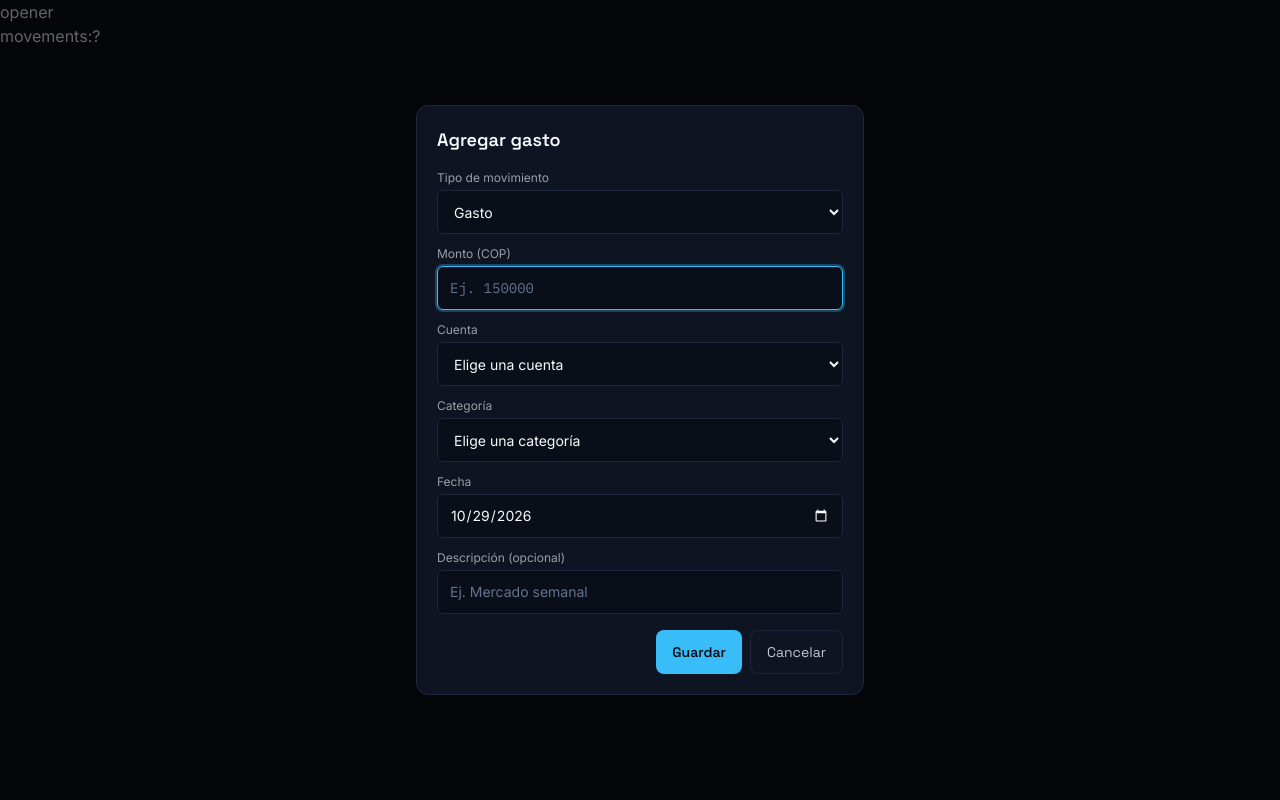
MovementModal › surfaces the server Spanish message when the API rejects with 422
The width and height of the screenshot is (1280, 800).
In the field labelled "Monto (COP)": (640, 288) x1=437 y1=266 x2=843 y2=310, type "25000"
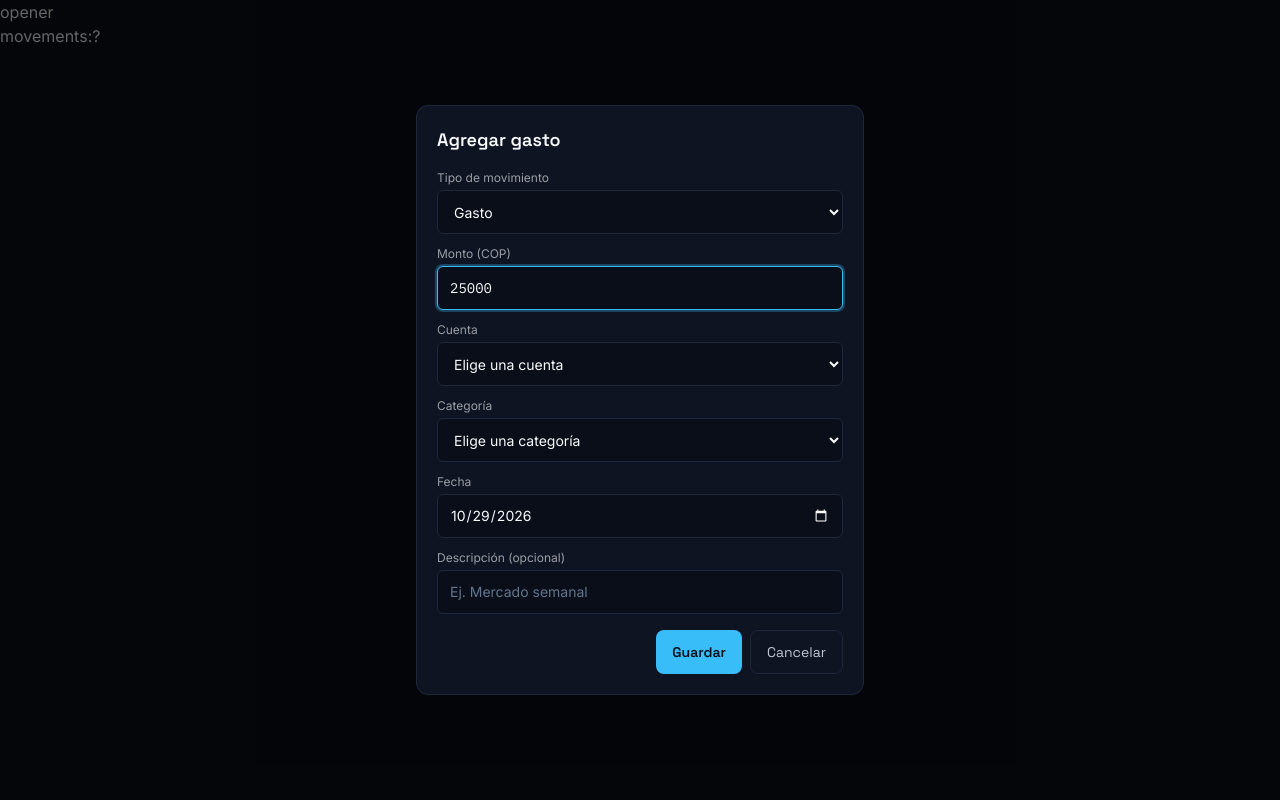
Select "Cuenta principal" in the dropdown labelled "Cuenta": (640, 364) x1=437 y1=342 x2=843 y2=386
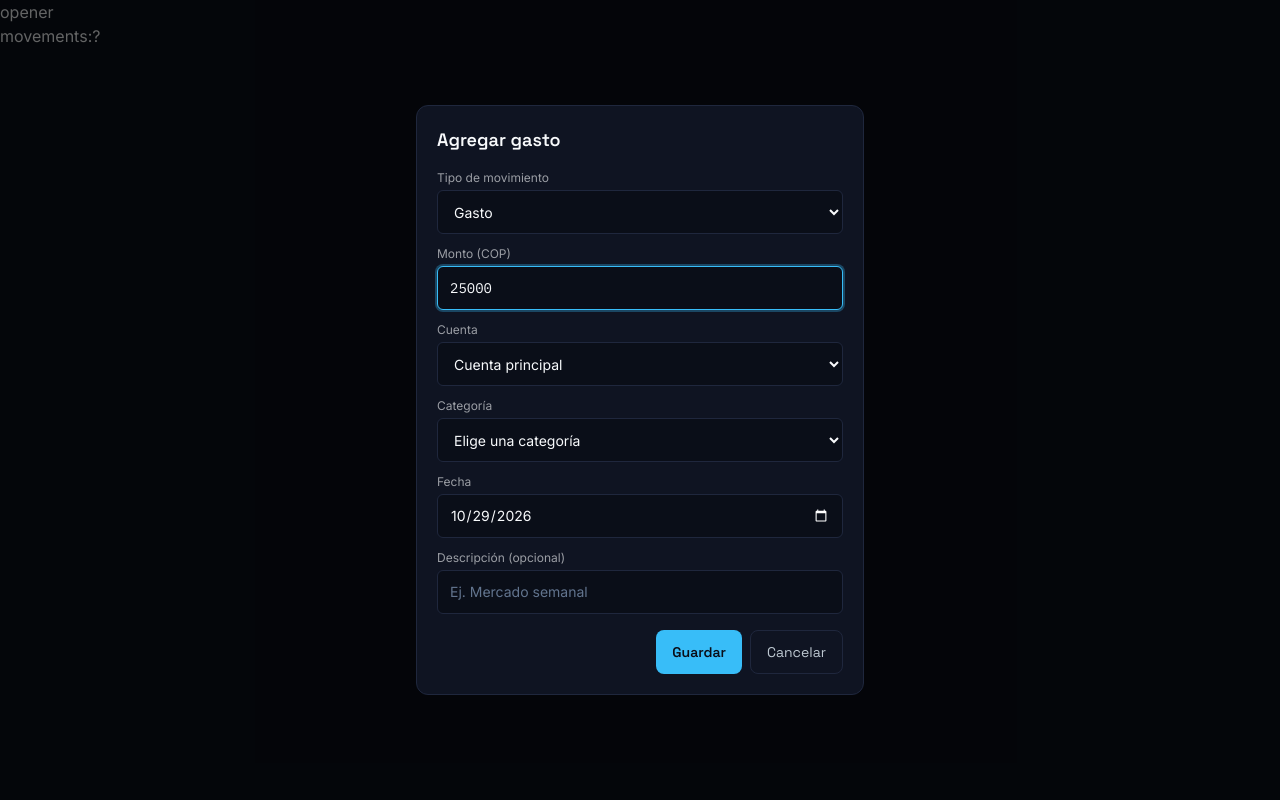
Select "Mercado" in the dropdown labelled "Categoría": (640, 440) x1=437 y1=418 x2=843 y2=462
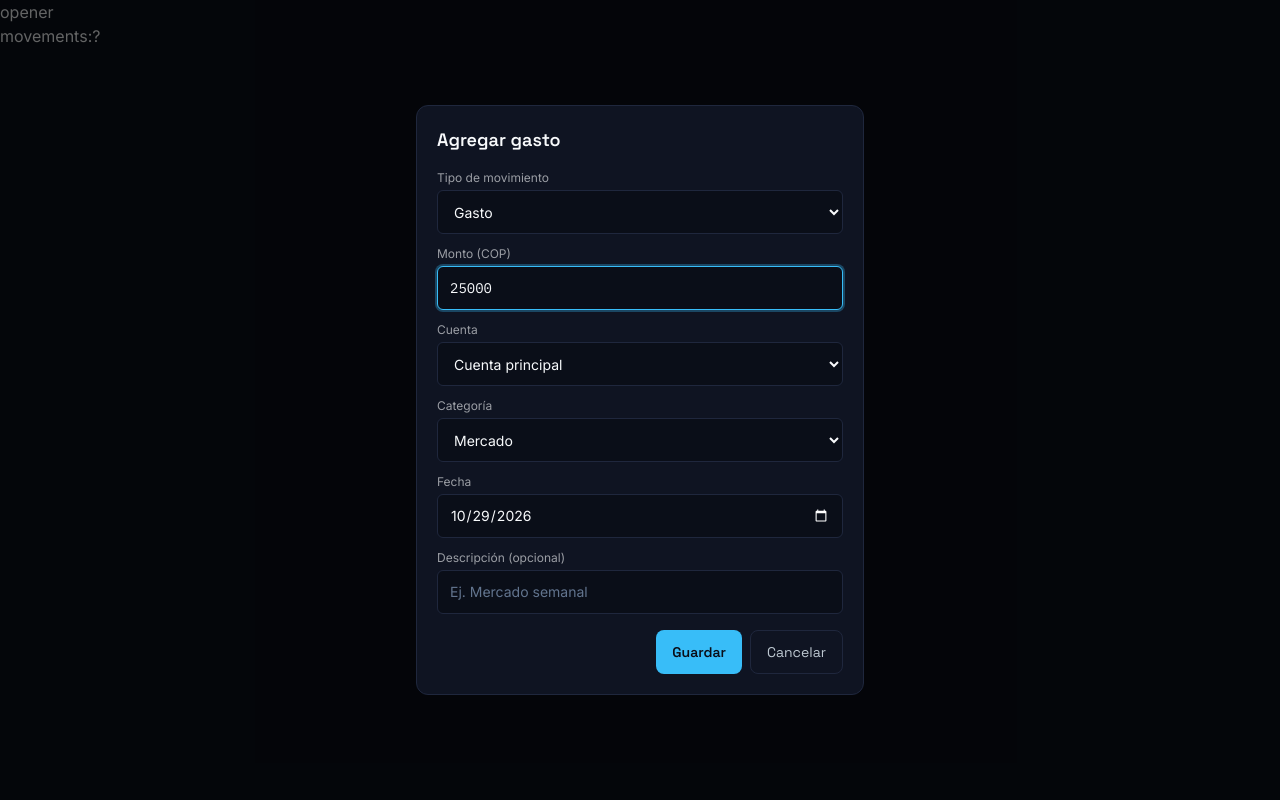
Click the button "Guardar": (699, 652) x1=656 y1=630 x2=742 y2=674
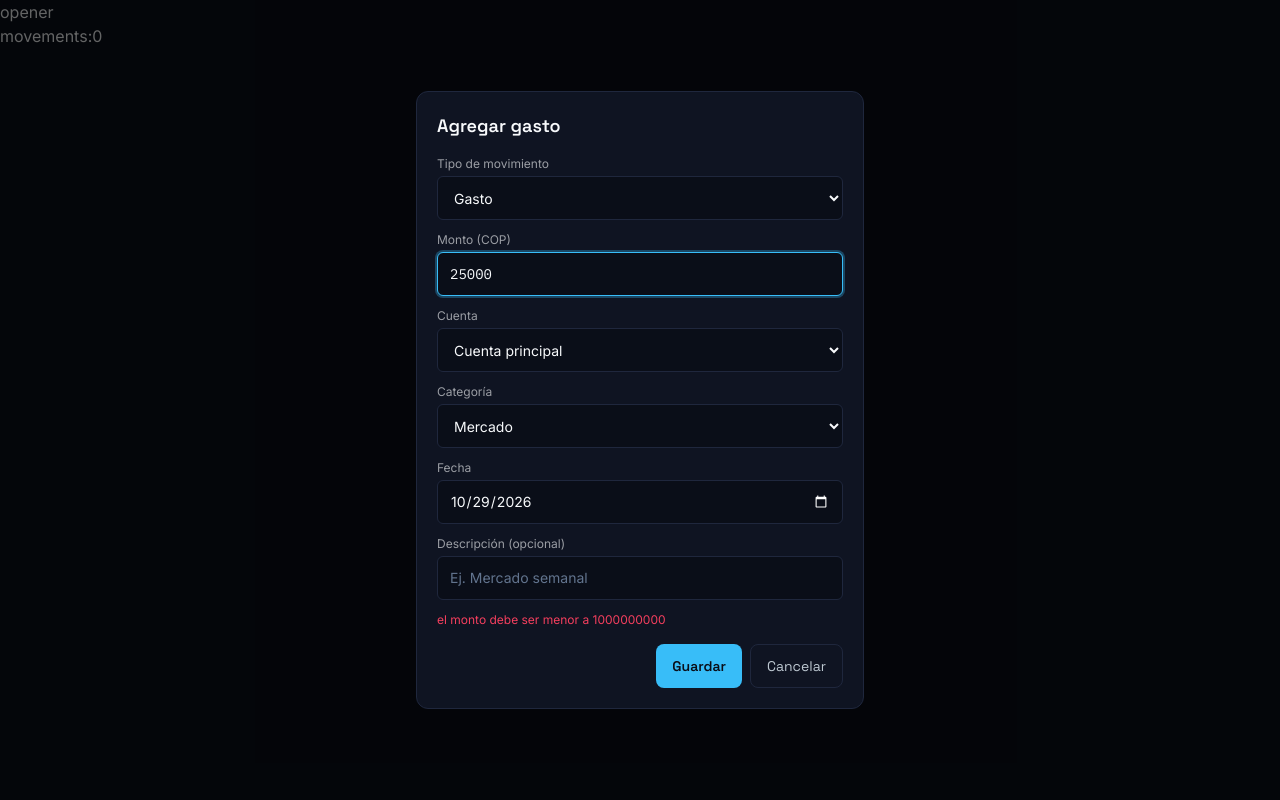
Check: the message reads "el monto debe ser menor a 1000000000", box x1=437 y1=612 x2=666 y2=627
